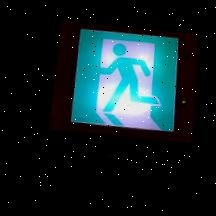emergency_exit: (50, 19, 199, 144), (69, 27, 180, 133)
